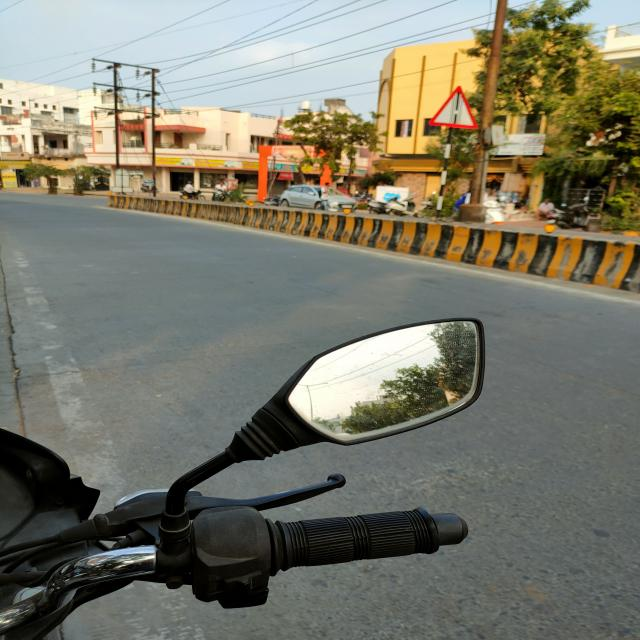ferry: (428, 85, 480, 128)
